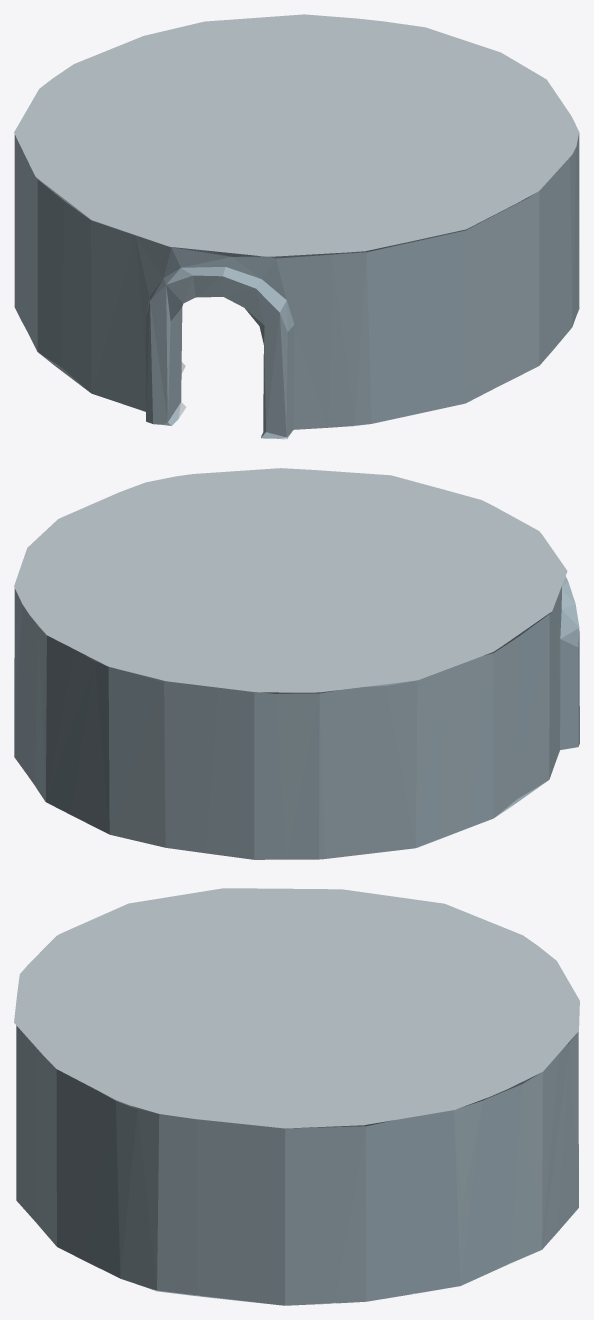
File: etape-1.glb
3 views of the same model, one above another, from view 1: azimuth 30°, elevation 25°; view 2: azimuth 150°, elevation 25°; view 3: azimuth 270°, elevation 25° (orthographic). The views are drawn at different scales.
Parts seen in each view (by area): view 1: geometry_0; view 2: geometry_0; view 3: geometry_0.
Part boxes in pixels (x1,y1,x2,y2): geometry_0: (14, 14, 579, 439); geometry_0: (14, 468, 579, 859); geometry_0: (14, 888, 579, 1305).
Size of the model in its own units: 0.7882 by 0.2717 by 0.7845.
